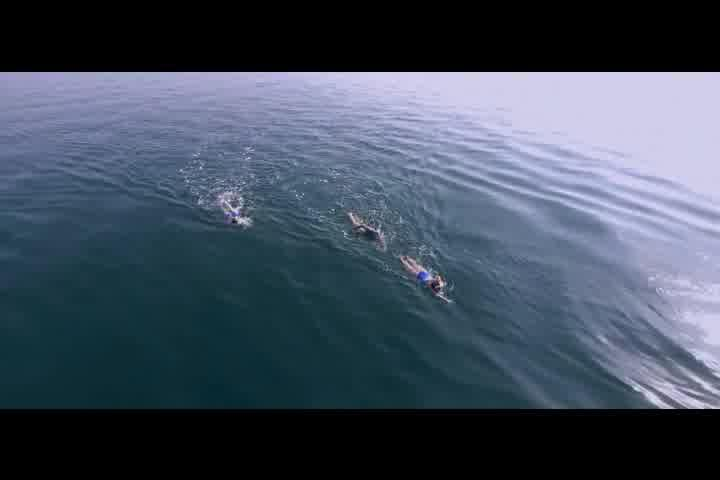human: (401, 254, 457, 309), (346, 210, 390, 253), (221, 198, 246, 229)
